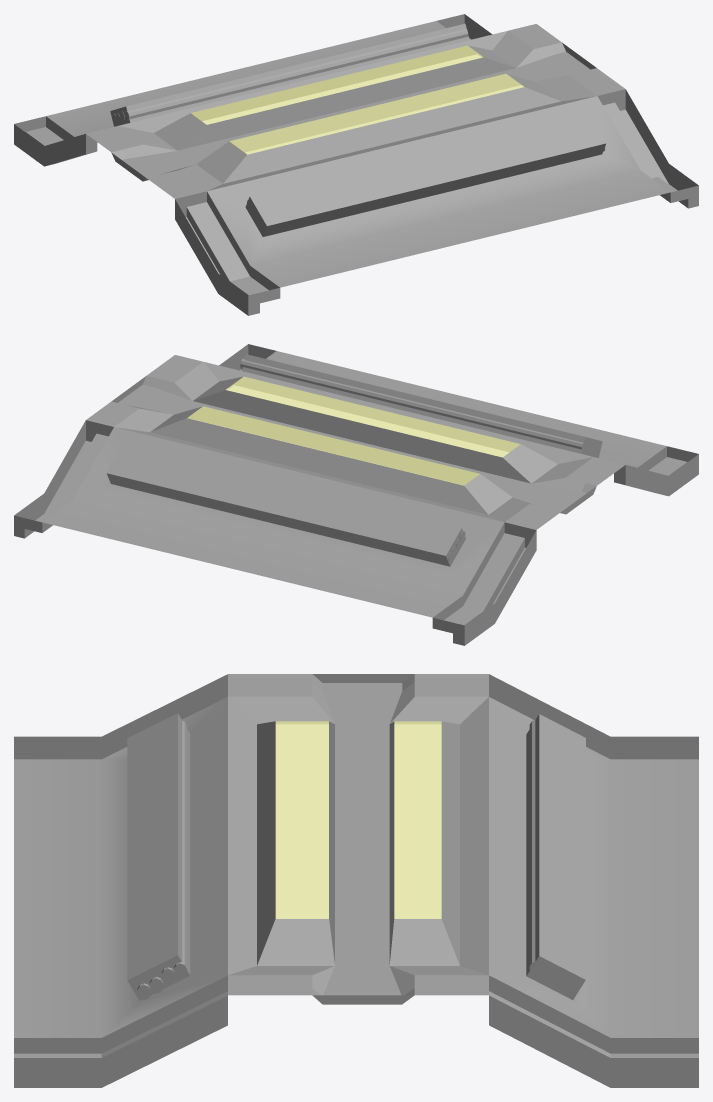
The model's file is Ceiling_A.fbx.
3 views of the same model, one above another, from view 1: azimuth 30°, elevation 25°; view 2: azimuth 150°, elevation 25°; view 3: azimuth 270°, elevation 25° (orthographic). The views are drawn at different scales.
Visible parts, largest first — view 1: Ceiling_A, pCylinder11; view 2: Ceiling_A, pCylinder15; view 3: Ceiling_A, pCylinder11, pCylinder15.
Part boxes in pixels (<box>): Ceiling_A: <box>14,14,698,315</box>; pCylinder11: <box>124,29,468,121</box>; Ceiling_A: <box>14,344,698,645</box>; pCylinder15: <box>240,358,583,449</box>; Ceiling_A: <box>14,674,698,1087</box>; pCylinder11: <box>529,720,535,970</box>; pCylinder15: <box>174,721,186,978</box>.
Bounding box in the file's own units: 3 × 2.7 × 0.4719.
